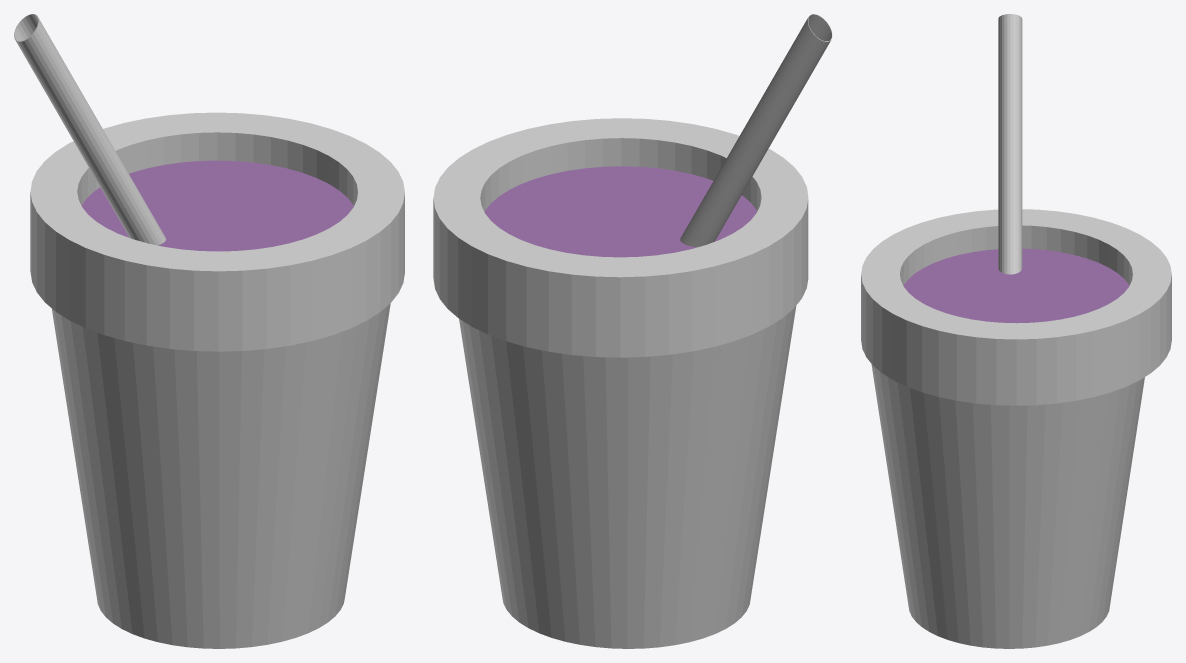
File: Charlotte N. - Grape Juice.glb
3 renders of one model, left to right at view 1: azimuth 30°, elevation 25°; view 2: azimuth 150°, elevation 25°; view 3: azimuth 270°, elevation 25°, orthographic. The views are drawn at different scales.
Parts seen in each view (by area): view 1: Mesh_Mesh_head_geo.001_lambert2SG.001; view 2: Mesh_Mesh_head_geo.001_lambert2SG.001; view 3: Mesh_Mesh_head_geo.001_lambert2SG.001.
Boxes of the visible parts, bbox=[...] form: Mesh_Mesh_head_geo.001_lambert2SG.001: bbox=[14, 14, 404, 648]; Mesh_Mesh_head_geo.001_lambert2SG.001: bbox=[433, 14, 832, 648]; Mesh_Mesh_head_geo.001_lambert2SG.001: bbox=[861, 14, 1171, 648].
Size of the model in its own units: 0.0478 by 0.078 by 0.0425.
